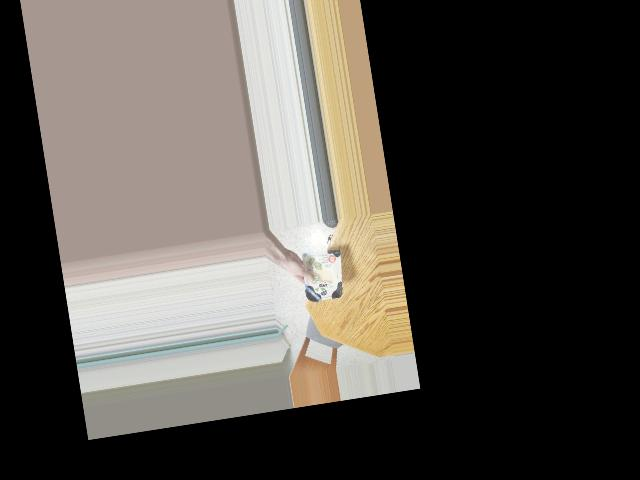cheese: (300, 239, 348, 310)
